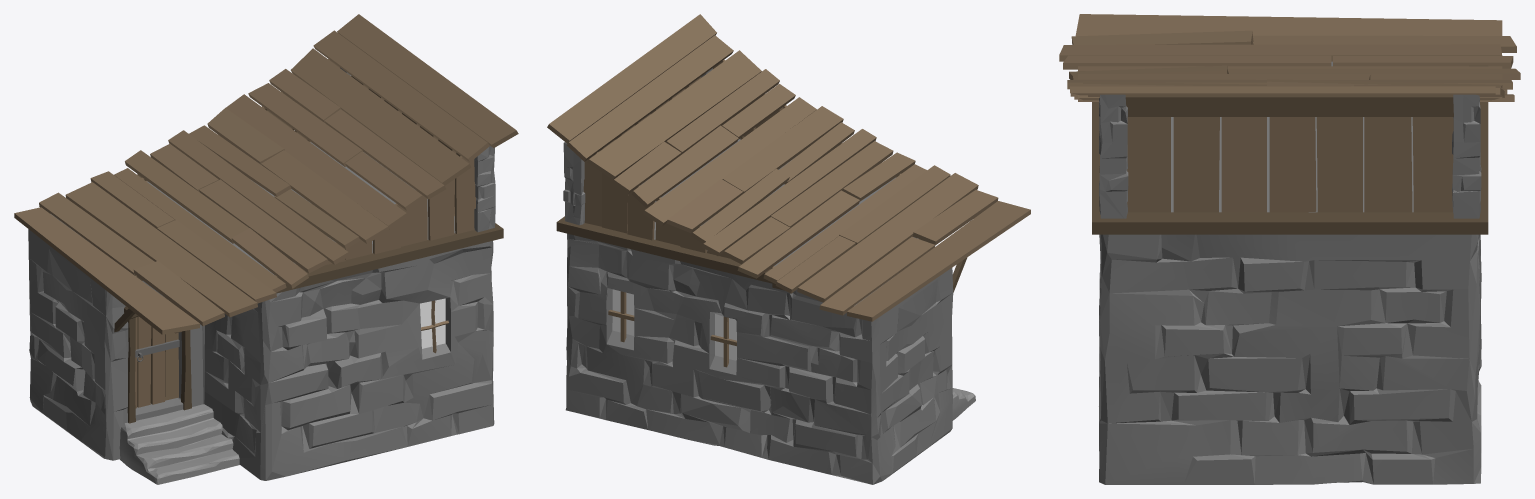
File: village_stone_house_c.FBX
3 views of the same model, side by side, from view 1: azimuth 30°, elevation 25°; view 2: azimuth 150°, elevation 25°; view 3: azimuth 270°, elevation 25° (orthographic). The views are drawn at different scales.
Visible parts, largest first — view 1: village_stone_house_c; view 2: village_stone_house_c; view 3: village_stone_house_c.
Part boxes in pixels (x1,y1,x2,y2): village_stone_house_c: (14,14,518,484); village_stone_house_c: (547,14,1030,484); village_stone_house_c: (1059,14,1520,484).
Size of the model in its own units: 6.44 by 5.28 by 5.43.
